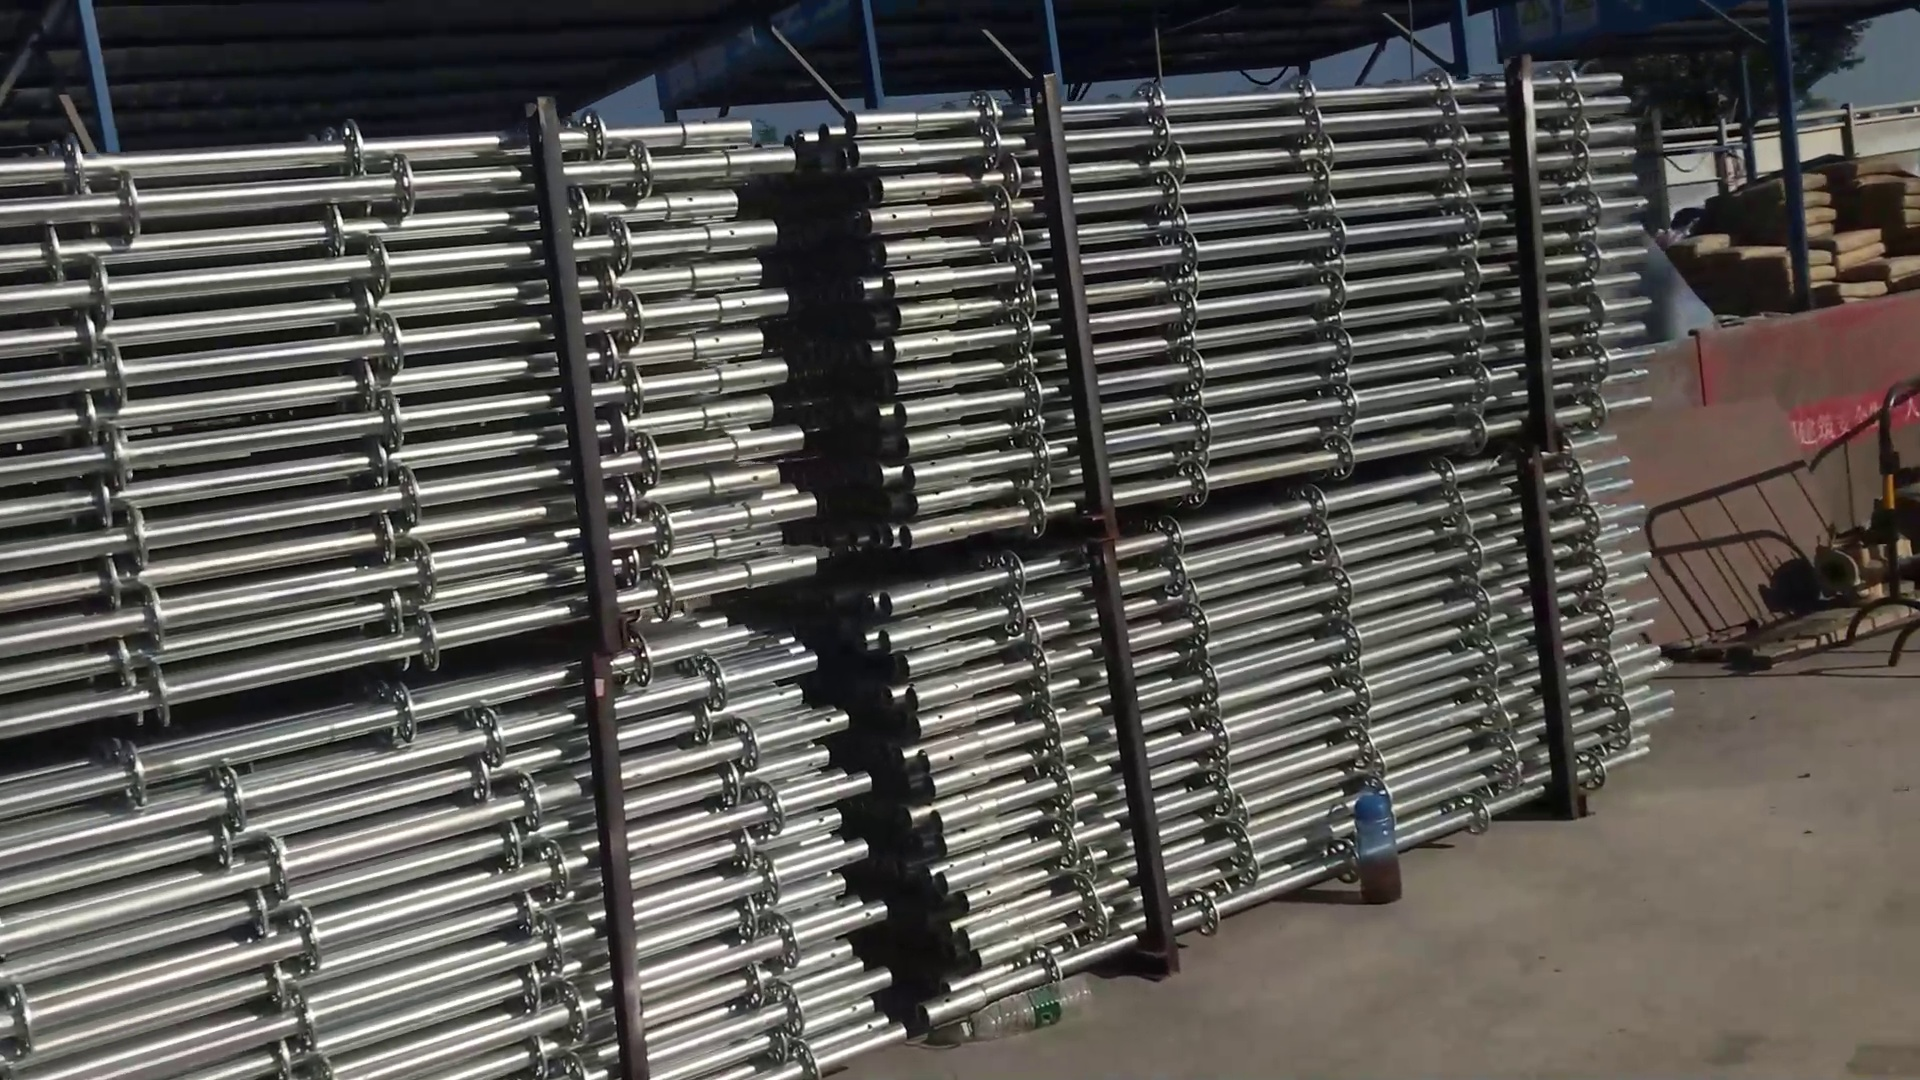fence: (1867, 367, 1920, 673)
scaffold: (822, 79, 1720, 1004), (8, 127, 832, 1080)
